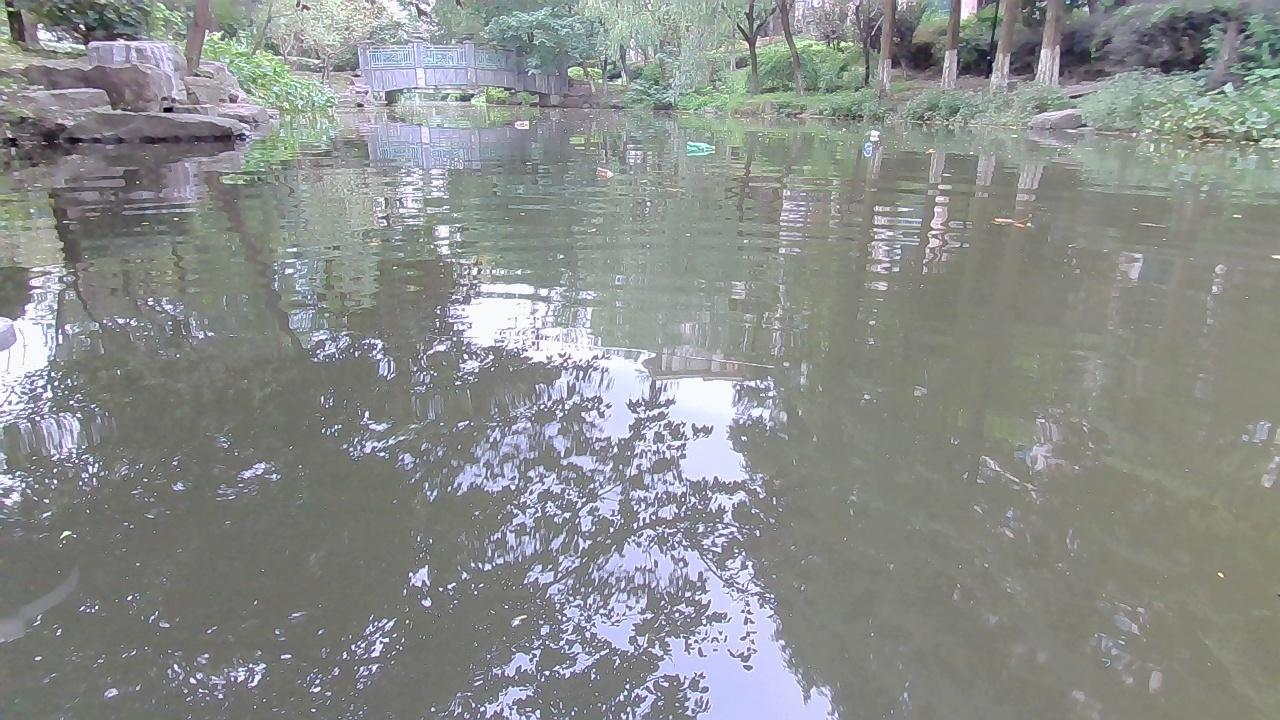bottle: (684, 140, 717, 151), (594, 165, 612, 178), (512, 118, 530, 127), (860, 141, 871, 150), (867, 131, 878, 137)
